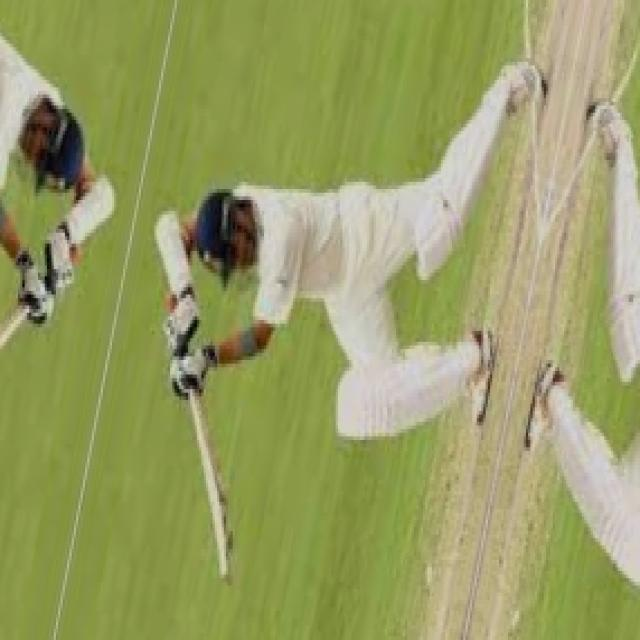toe: (213, 508, 238, 588)
